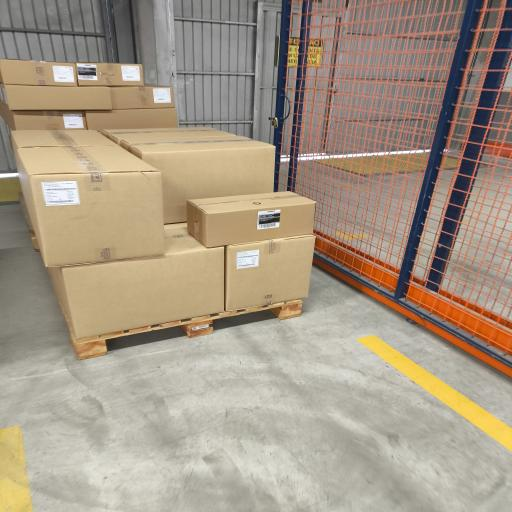pallet: (72, 300, 302, 359), (19, 193, 40, 251)
